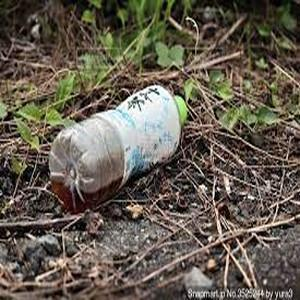Plastic: (48, 84, 192, 211)
